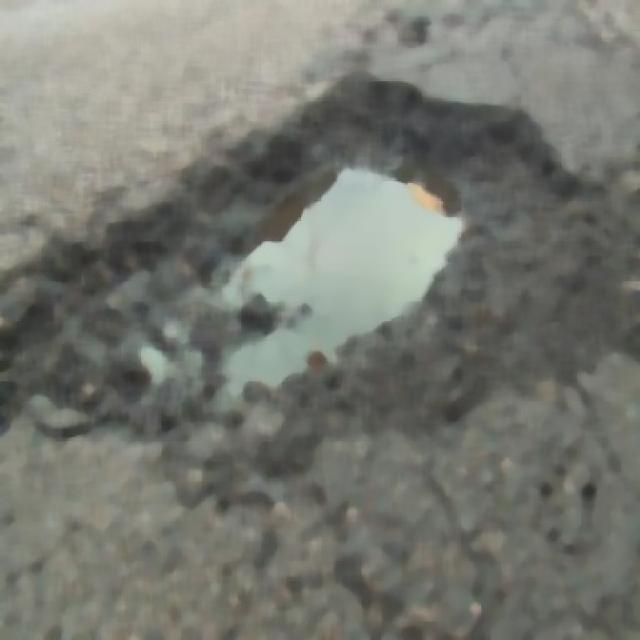Pothole: (203, 160, 463, 372)
